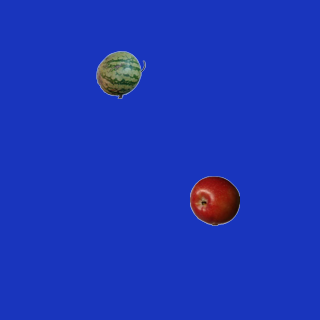Apple Braeburn: (189, 175, 239, 225)
Watermelon: (95, 49, 145, 99)
